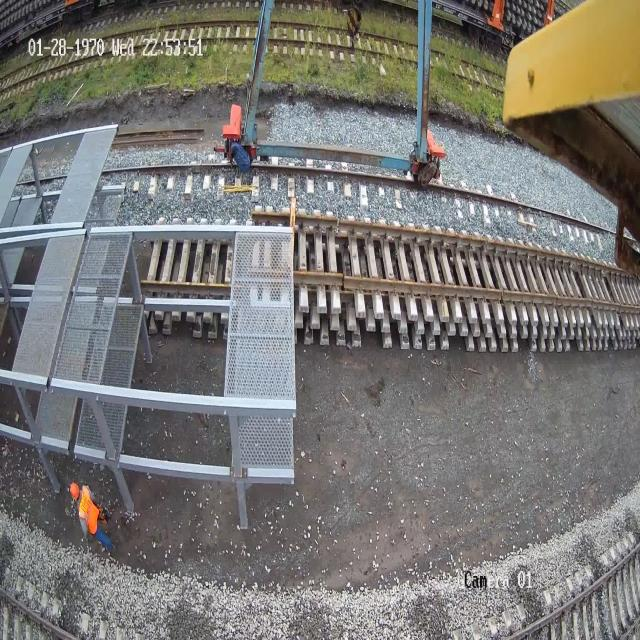Helmet: (69, 477, 81, 503)
Person: (67, 482, 117, 557)
